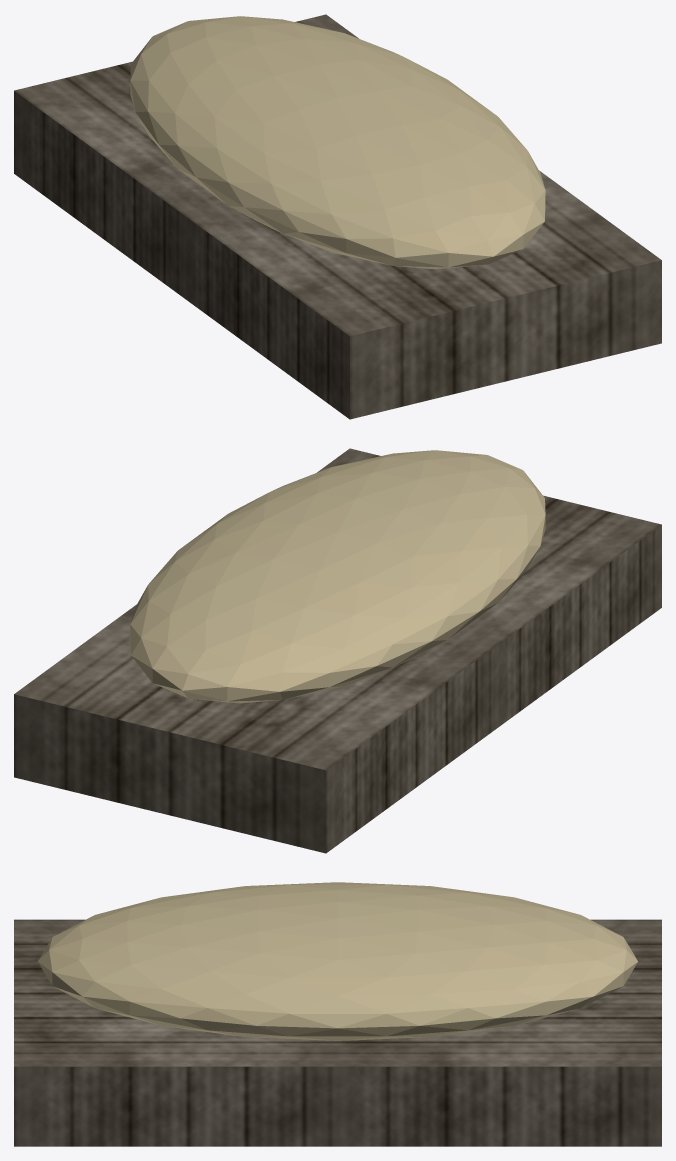
The model's file is turm_strohsack.glb.
3 views of the same model, one above another, from view 1: azimuth 30°, elevation 25°; view 2: azimuth 150°, elevation 25°; view 3: azimuth 270°, elevation 25° (orthographic). The views are drawn at different scales.
Parts seen in each view (by area): view 1: turm_strohsack_000, turm_strohsack_001; view 2: turm_strohsack_000, turm_strohsack_001; view 3: turm_strohsack_000, turm_strohsack_001.
Boxes of the visible parts, box(x1,y1,x2,y2) form: turm_strohsack_000: box(14, 14, 661, 419); turm_strohsack_001: box(130, 16, 545, 269); turm_strohsack_000: box(14, 448, 661, 853); turm_strohsack_001: box(130, 450, 545, 703); turm_strohsack_000: box(14, 919, 661, 1146); turm_strohsack_001: box(38, 882, 637, 1040).
Bounding box in the file's own units: 1.1 × 0.54 × 2.05.
Materials: 1 (1 with a texture image).
